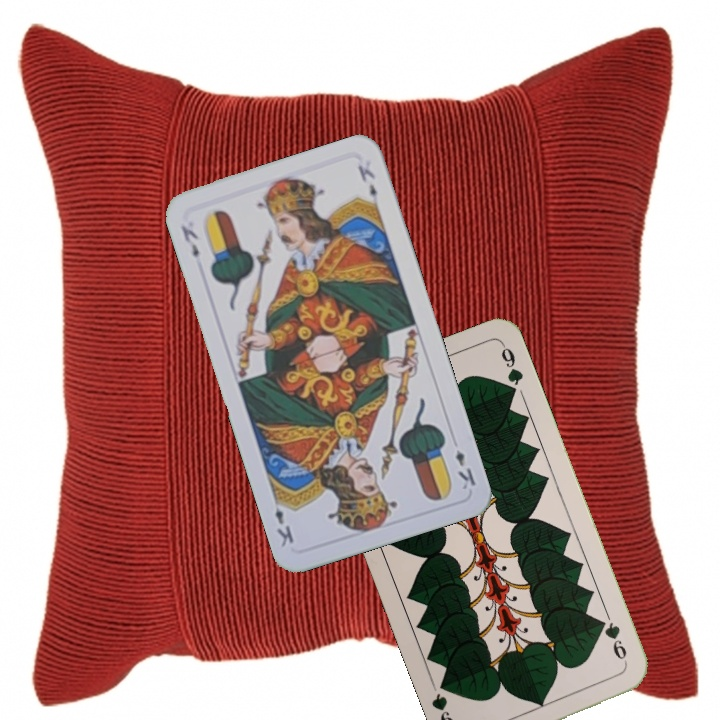EK: (451, 446, 479, 493), (176, 221, 202, 261)
G9: (595, 615, 630, 668)
